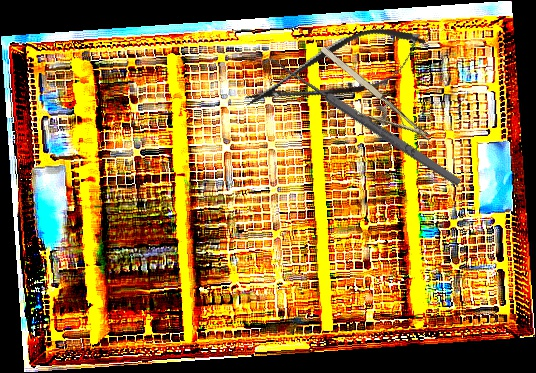Hook Surgical: (259, 51, 464, 196)
Micro Scissor: (235, 11, 435, 131)
Needle Holder: (304, 42, 432, 163)
